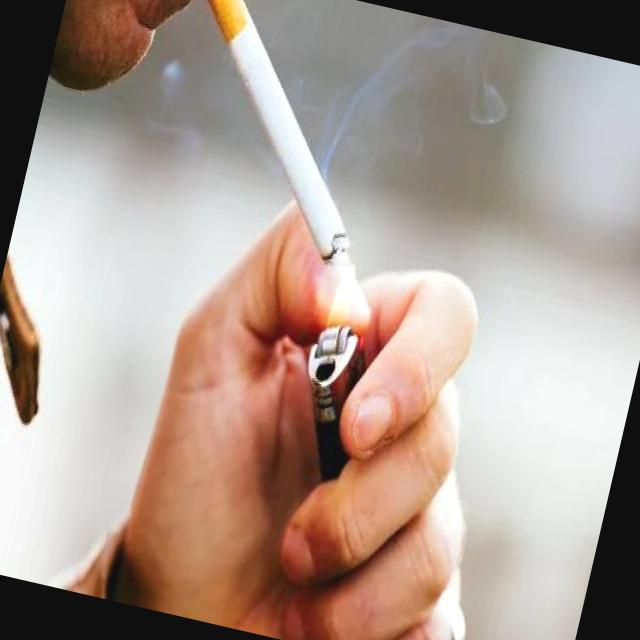cigarette: (138, 0, 405, 278)
